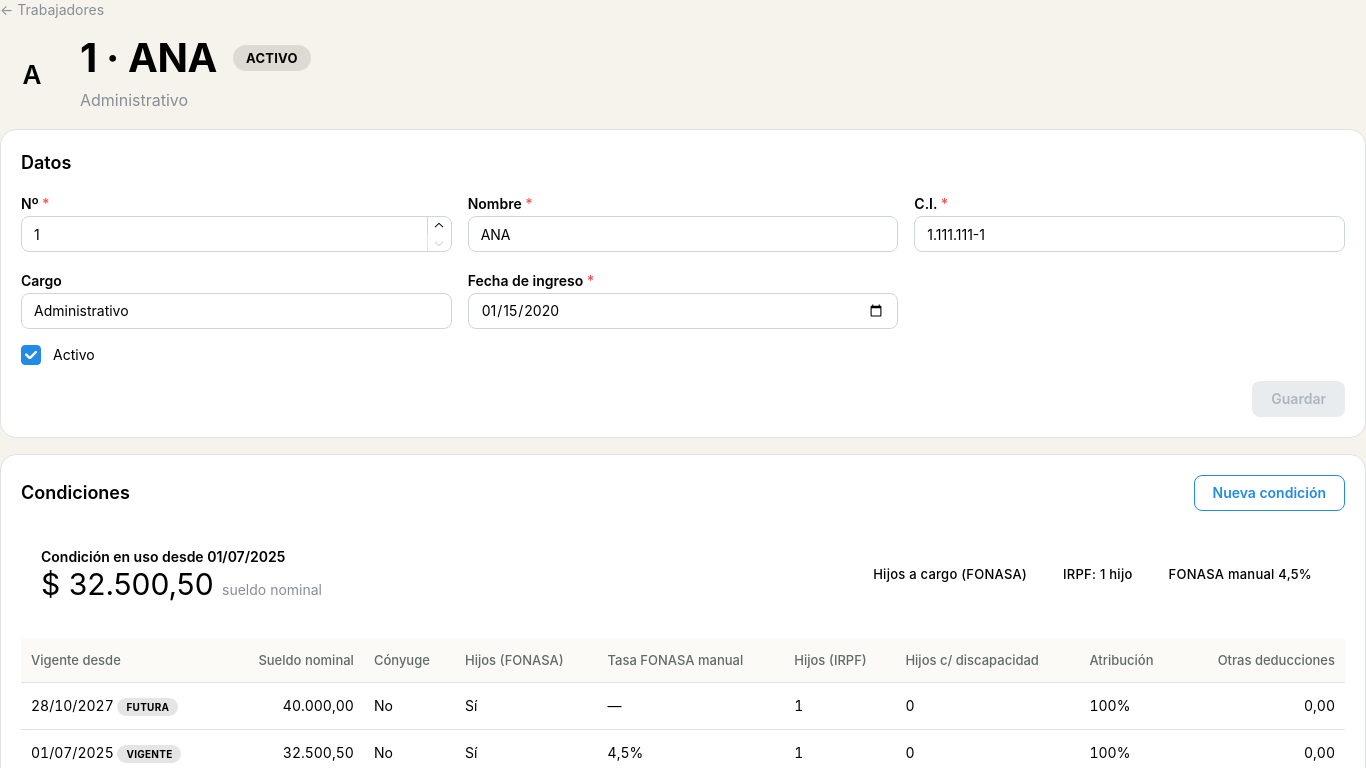
Test: TrabajadorDetallePage › shows the conflict message when the start date already exists
The image size is (1366, 768).
Click the button "Nueva condición": (1269, 493) [1194, 475, 1345, 511]
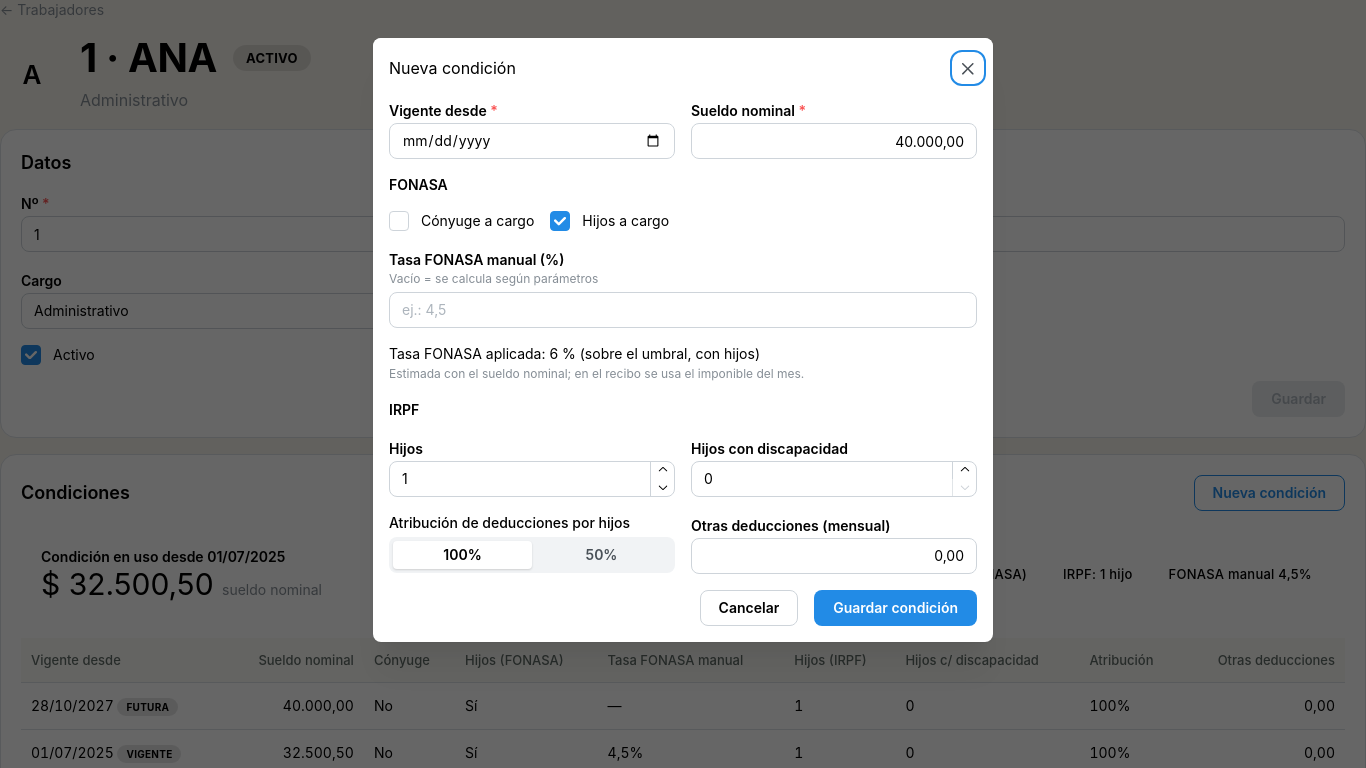
In the date field labelled "Vigente desde *": (532, 141) [389, 123, 675, 159], type "2025-07-01"
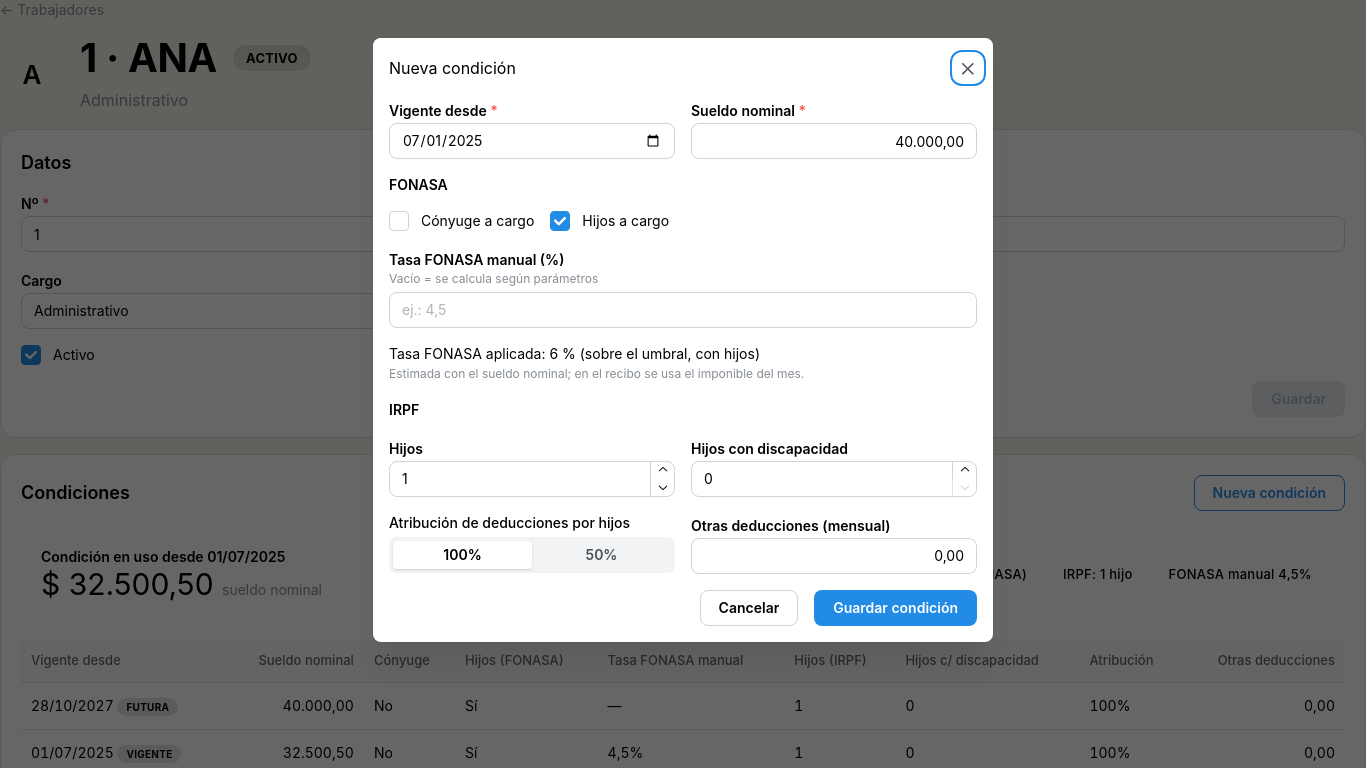
Click the button "Guardar condición": (896, 608) [814, 590, 977, 626]
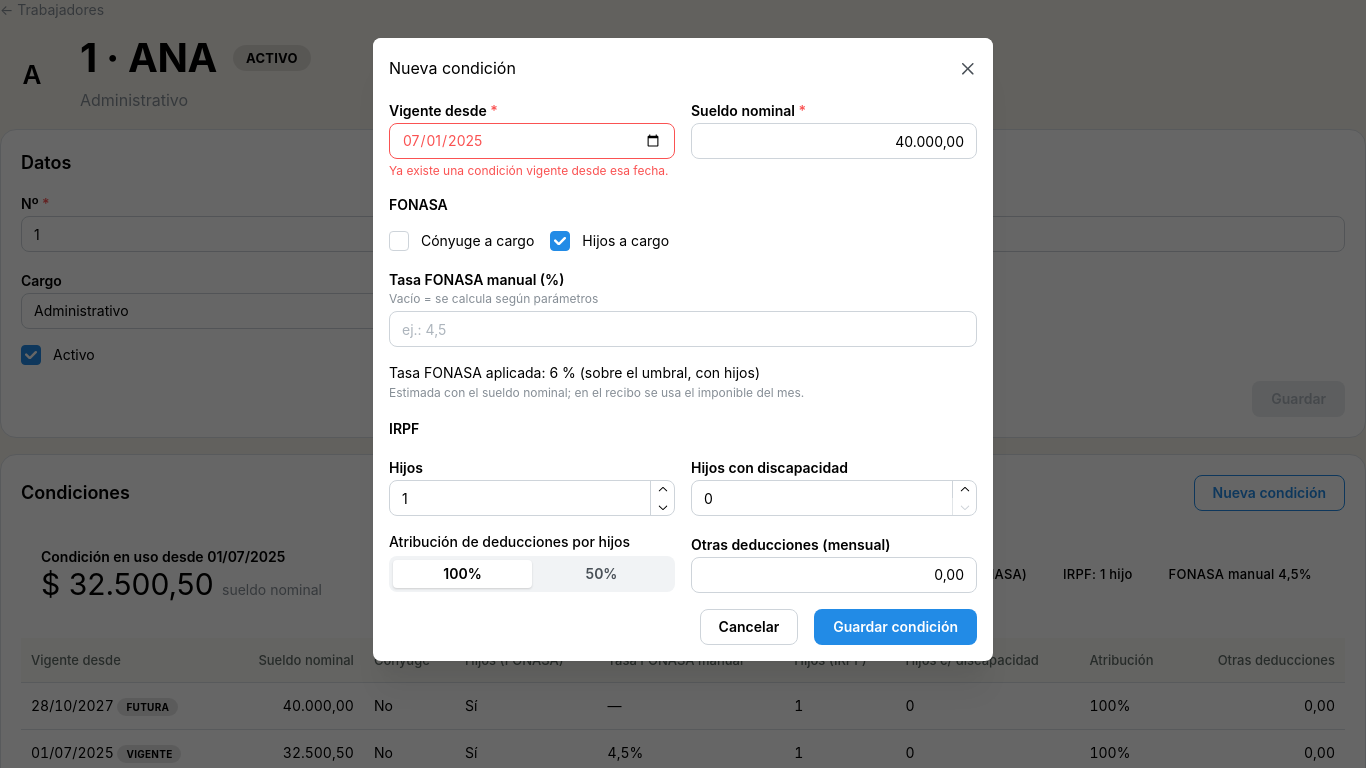
Now the dialog is shown, box [373, 38, 993, 661]
Now the text "Ya existe una condición vigente desde esa fecha." is shown, box [389, 164, 675, 179]
